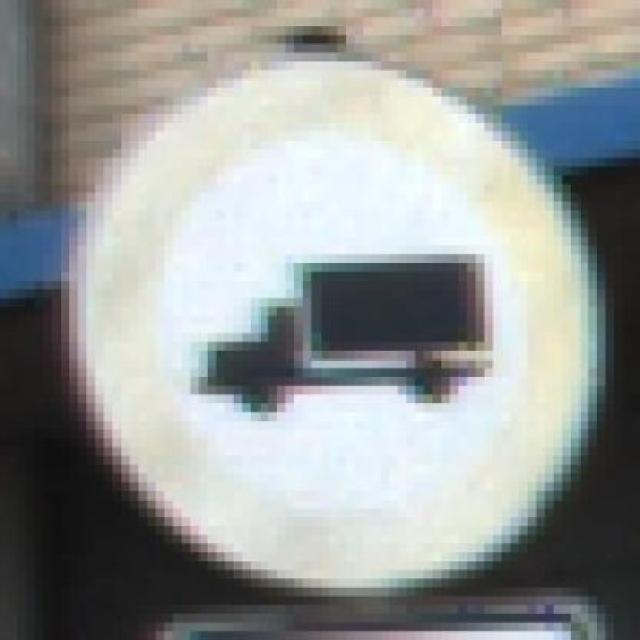Truck traffic is prohibited: (69, 44, 606, 605)
